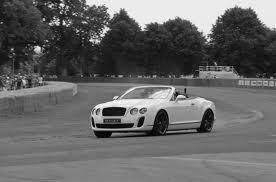car: (89, 83, 219, 142)
